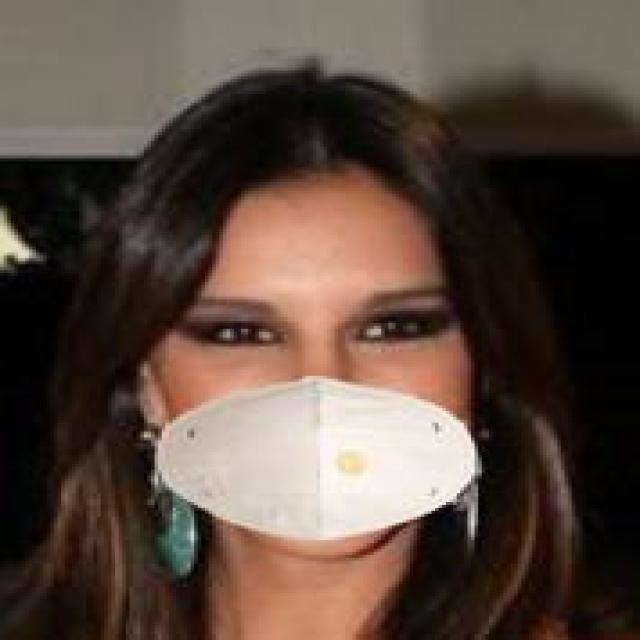mask: (151, 130, 575, 578)
